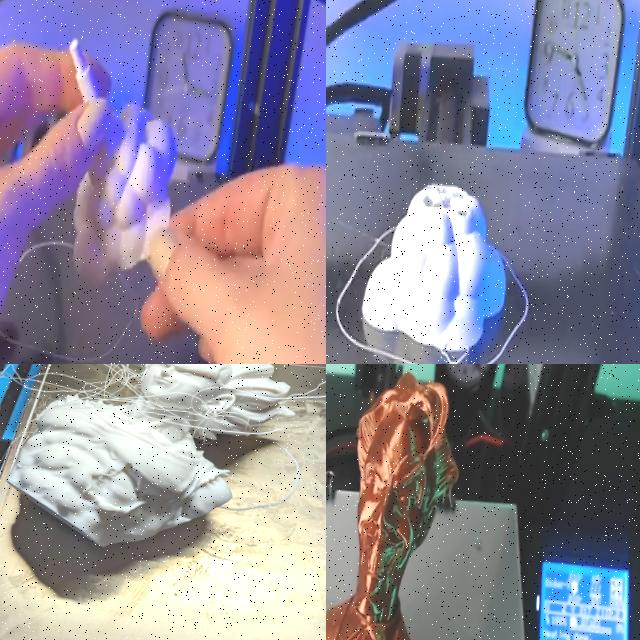spaghetti: (0, 364, 326, 630)
